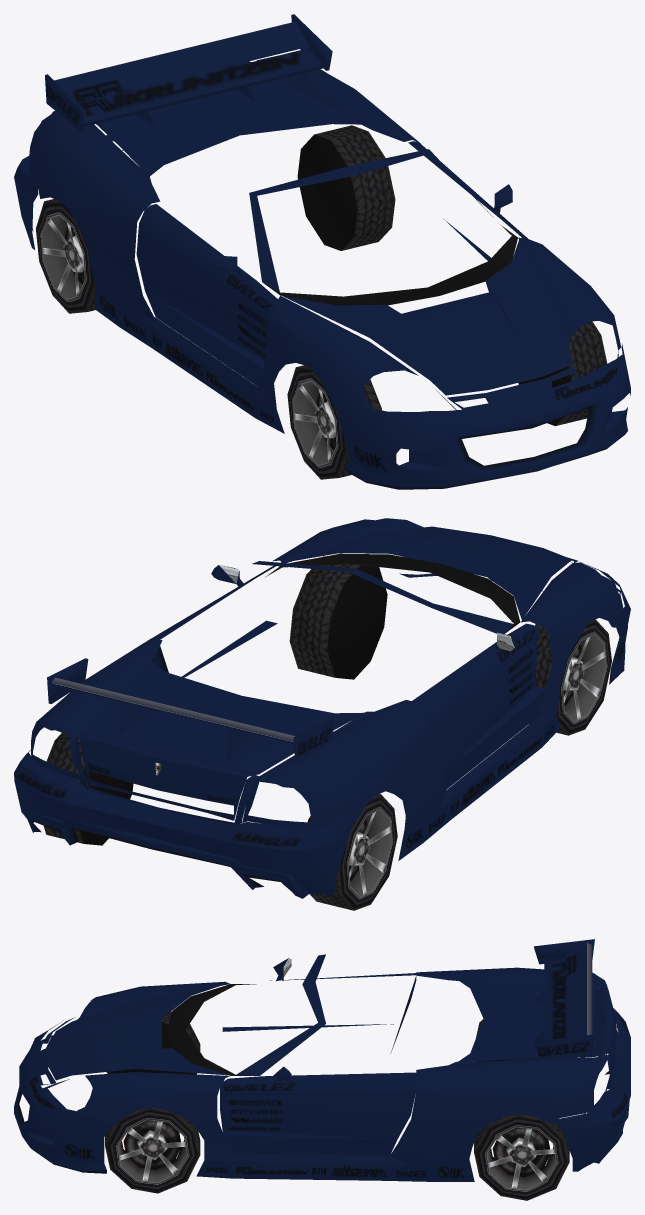
Rendered from car-SPRT_Car1.glb.
3 views of the same model, one above another, from view 1: azimuth 30°, elevation 25°; view 2: azimuth 150°, elevation 25°; view 3: azimuth 270°, elevation 25° (orthographic). The views are drawn at different scales.
Parts seen in each view (by area): view 1: SPRT_Car1; view 2: SPRT_Car1; view 3: SPRT_Car1.
Part boxes in pixels (left/top/right/bottom): SPRT_Car1: left=14, top=14, right=630, bottom=489; SPRT_Car1: left=14, top=518, right=630, bottom=910; SPRT_Car1: left=14, top=939, right=630, bottom=1200.
Size of the model in its own units: 1.98 by 1.23 by 4.26.
19 materials, 19 textured.
